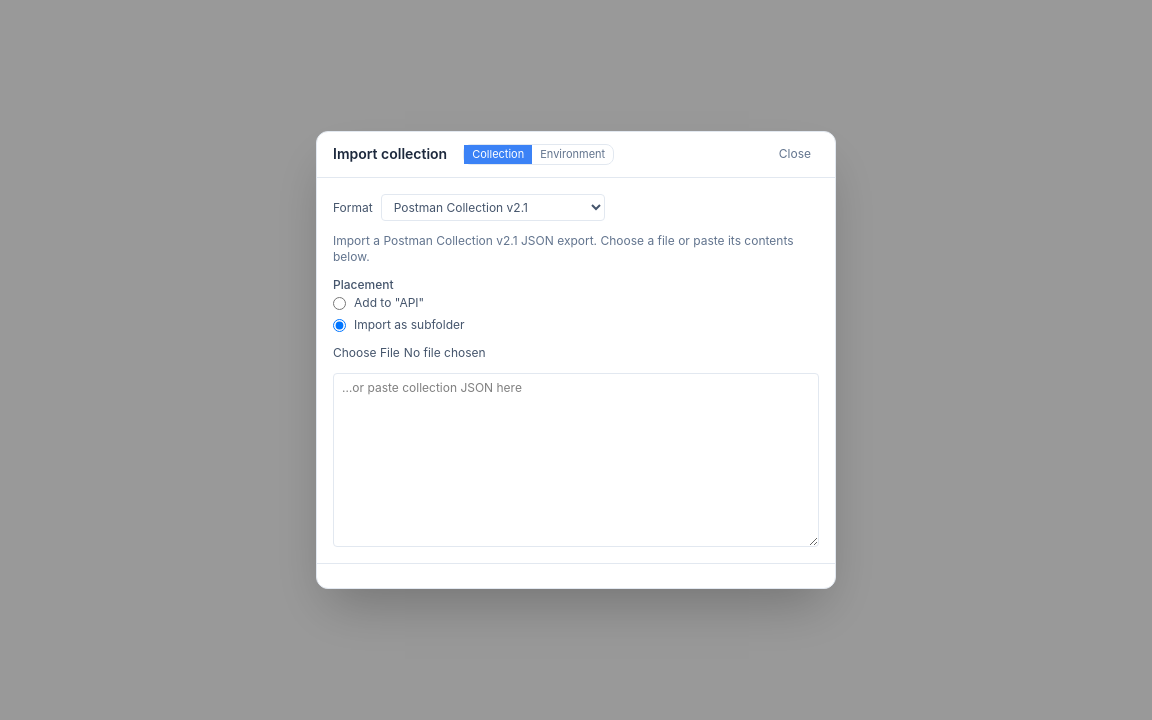
Scenario: ImportDialog › shows placement options when importing into a folder and defaults curl to into_folder
The image size is (1152, 720).
Check: the text "Add to \"API\"" is shown, box x1=333 y1=295 x2=424 y2=310
Check: the text "Import as subfolder" is shown, box x1=333 y1=317 x2=465 y2=332
Select "cURL command" in the dropdown labelled "Format" at (493, 208), box x1=381 y1=194 x2=605 y2=221
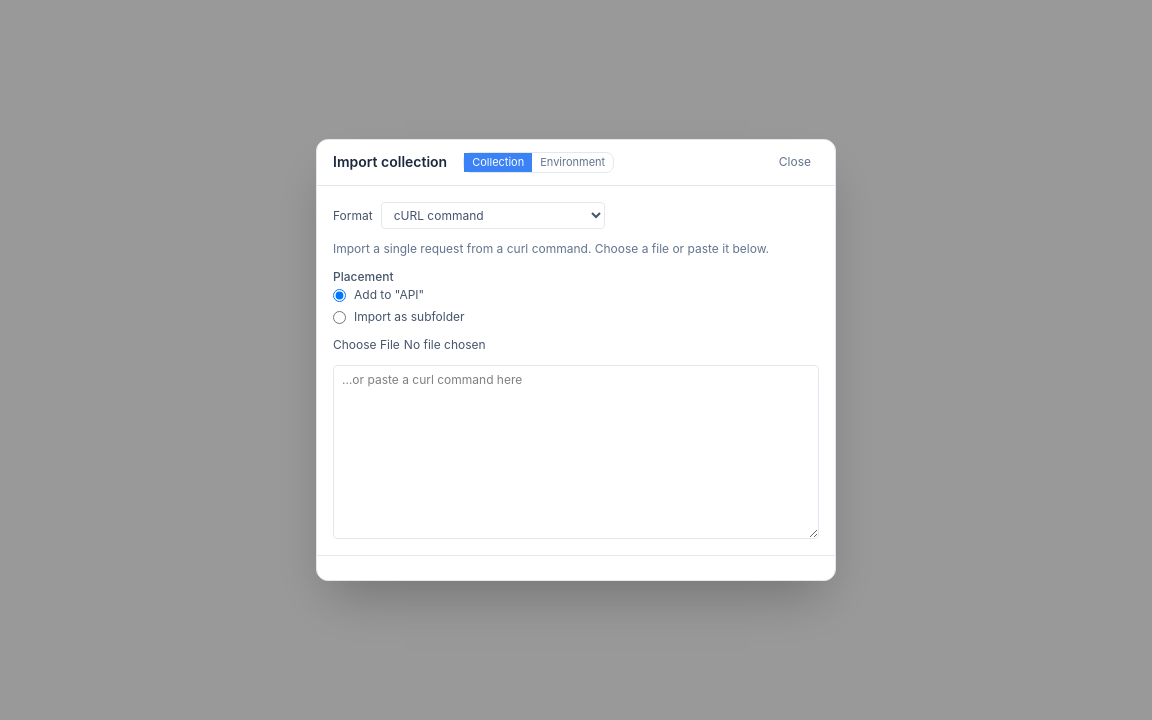
Check: the radio button labelled "Add to \"API\"" is checked, box x1=333 y1=289 x2=346 y2=302
